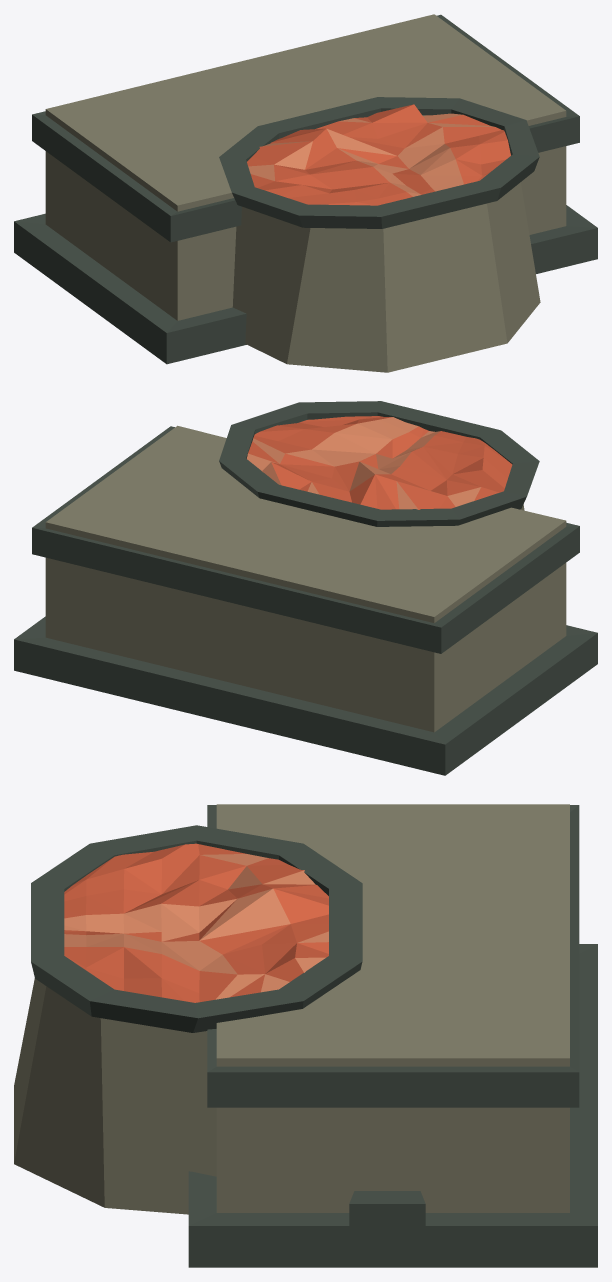
The model's file is Heater_1_mat.fbx.
The picture shows the model from 3 angles, top to bottom: view 1: azimuth 30°, elevation 25°; view 2: azimuth 150°, elevation 25°; view 3: azimuth 270°, elevation 25°; orthographic projection. The views are drawn at different scales.
Parts seen in each view (by area): view 1: Heater_1_mat; view 2: Heater_1_mat; view 3: Heater_1_mat.
Part boxes in pixels (left/top/right/bottom): Heater_1_mat: left=14, top=14, right=597, bottom=372; Heater_1_mat: left=14, top=401, right=597, bottom=775; Heater_1_mat: left=14, top=804, right=597, bottom=1267.
Bounding box in the file's own units: 1.42 × 0.5234 × 1.25.
